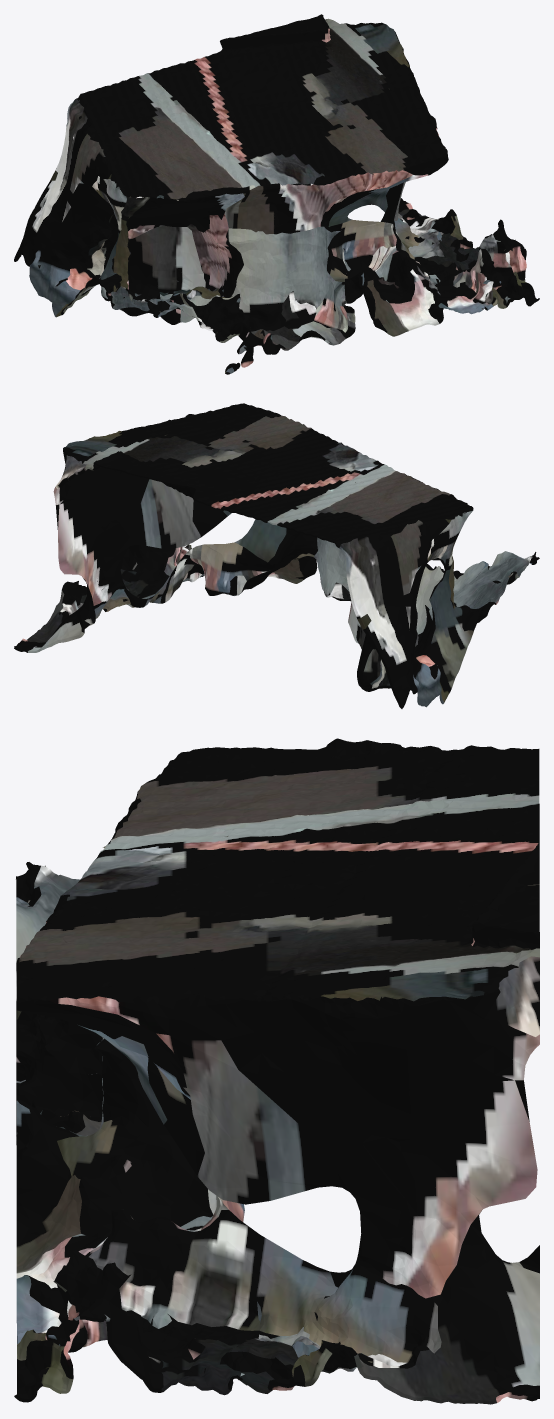
The picture shows the model from 3 angles, top to bottom: view 1: azimuth 30°, elevation 25°; view 2: azimuth 150°, elevation 25°; view 3: azimuth 270°, elevation 25°; orthographic projection. The views are drawn at different scales.
Visible parts, largest first — view 1: node_112; view 2: node_112; view 3: node_112.
Boxes of the visible parts, x1,y1,x2,y2 form: node_112: [14, 14, 539, 374]; node_112: [14, 403, 539, 708]; node_112: [14, 738, 539, 1404].
Size of the model in its own units: 9.04 by 4.67 by 5.54.
Materials: 1 (1 with a texture image).
